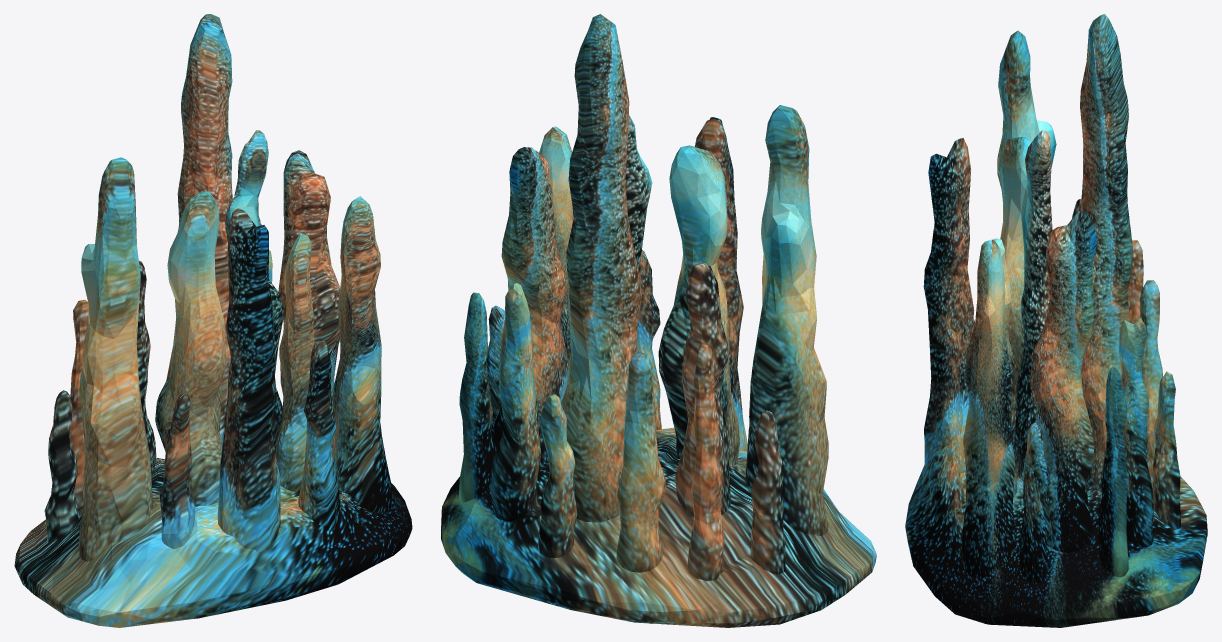
The model's file is fishtank_pillarcoral1.dae.
3 views of the same model, side by side, from view 1: azimuth 30°, elevation 25°; view 2: azimuth 150°, elevation 25°; view 3: azimuth 270°, elevation 25° (orthographic). The views are drawn at different scales.
Visible parts, largest first — view 1: _0944_Pillar_Coral_v1_001; view 2: _0944_Pillar_Coral_v1_001; view 3: _0944_Pillar_Coral_v1_001.
Part boxes in pixels (<box>): _0944_Pillar_Coral_v1_001: <box>14,14,412,627</box>; _0944_Pillar_Coral_v1_001: <box>441,14,876,627</box>; _0944_Pillar_Coral_v1_001: <box>905,14,1207,627</box>.
Size of the model in its own units: 103 by 71.49 by 141.
Materials: 1 (1 with a texture image).
